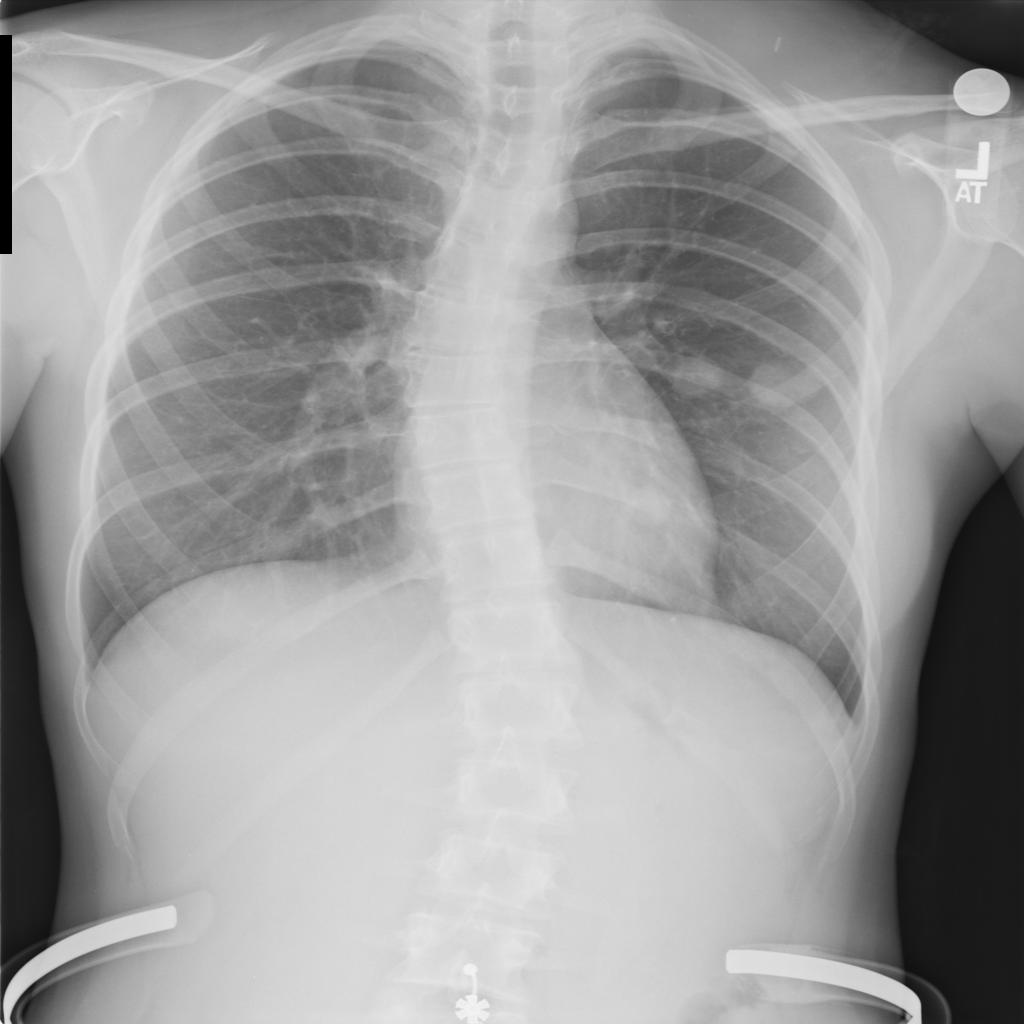nodule: (735, 351, 835, 415), (612, 471, 688, 537), (656, 342, 733, 406), (691, 430, 766, 488)
